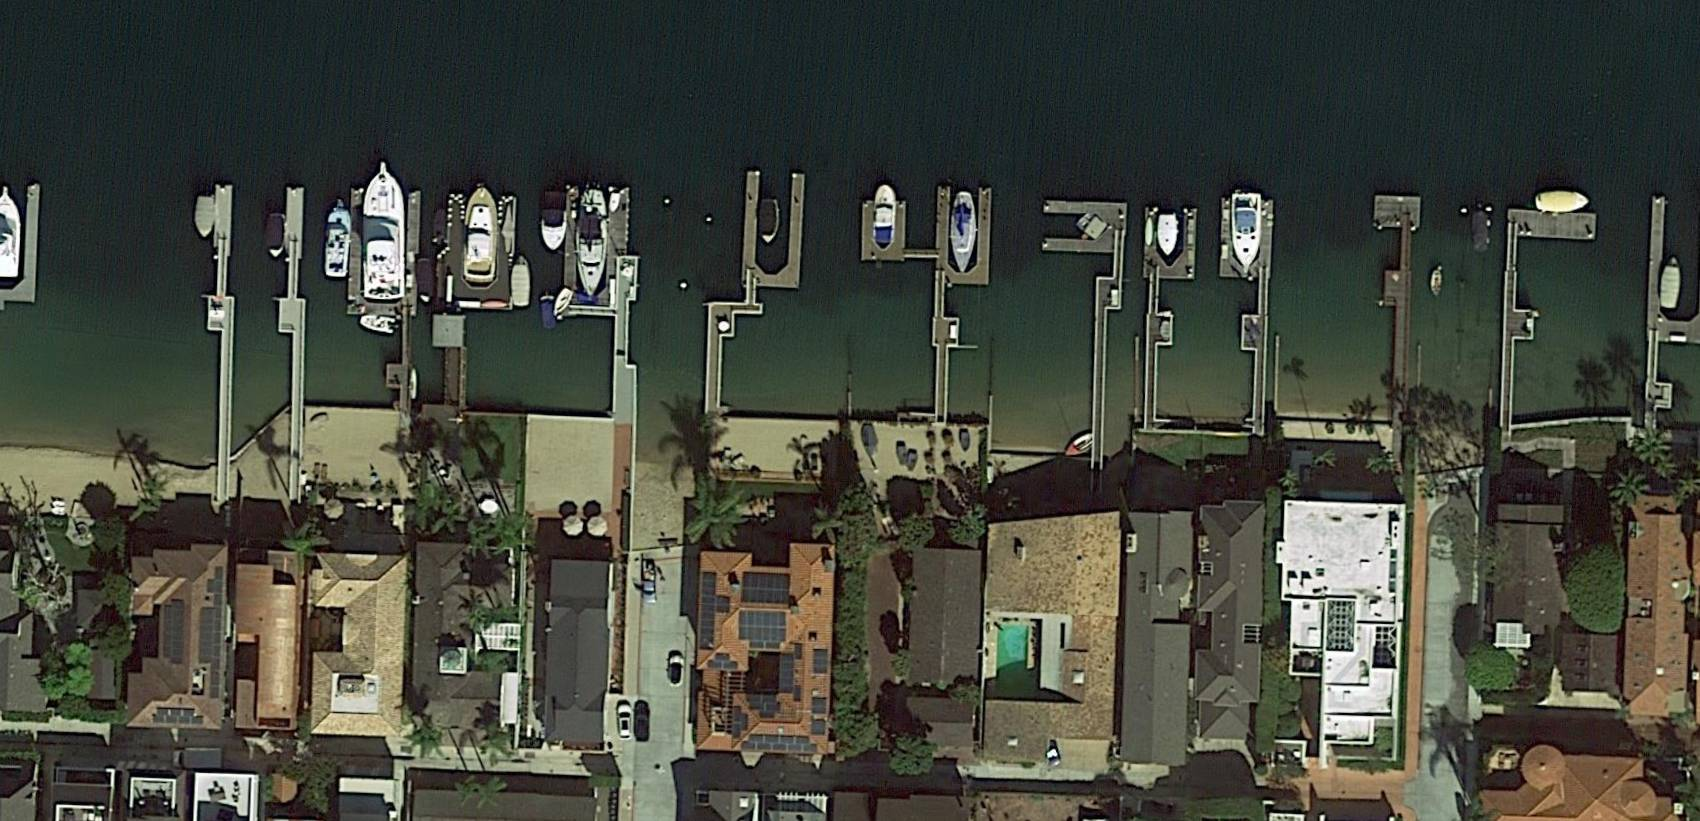harbor: (852, 181, 994, 411), (704, 170, 807, 402), (1032, 201, 1126, 439), (1500, 211, 1597, 427), (553, 186, 641, 422), (431, 195, 519, 399), (340, 190, 424, 399), (1217, 198, 1274, 416), (1644, 199, 1699, 418), (1142, 209, 1197, 427), (198, 187, 240, 467), (271, 186, 314, 454), (1370, 197, 1421, 414)
ship: (361, 160, 406, 299), (574, 188, 610, 300), (462, 184, 500, 284), (1231, 192, 1262, 271), (1, 185, 27, 279), (949, 191, 977, 274), (324, 200, 353, 278), (540, 190, 570, 253), (872, 184, 898, 244), (1658, 256, 1683, 310), (1536, 191, 1591, 214), (510, 255, 532, 307), (193, 195, 218, 240), (758, 198, 781, 245), (1156, 214, 1180, 256), (266, 213, 287, 258)
small vehicle: (639, 560, 660, 607), (634, 704, 652, 743), (617, 703, 634, 742), (668, 652, 685, 689)
swimming pool: (994, 624, 1030, 695)
